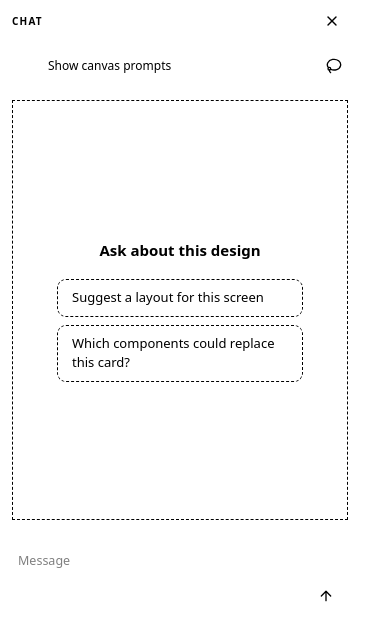
Test: ChatPanel › an example prompt fills the composer and focuses it
This screenshot has width=365, height=629.
Click the button "Suggest a layout for this screen".
click(180, 298)  # box [57, 279, 303, 316]
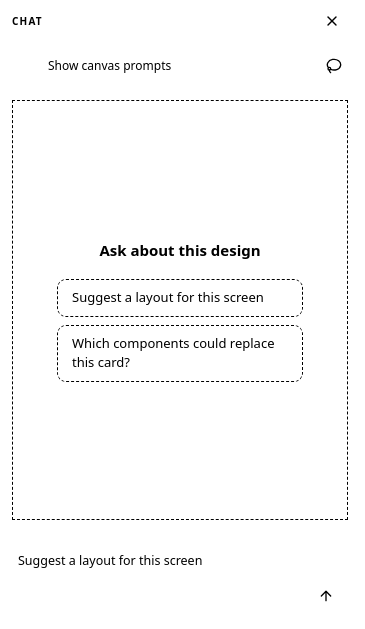
Check: the text box named "Message" holds "Suggest a layout for this screen", box [18, 548, 304, 612]
